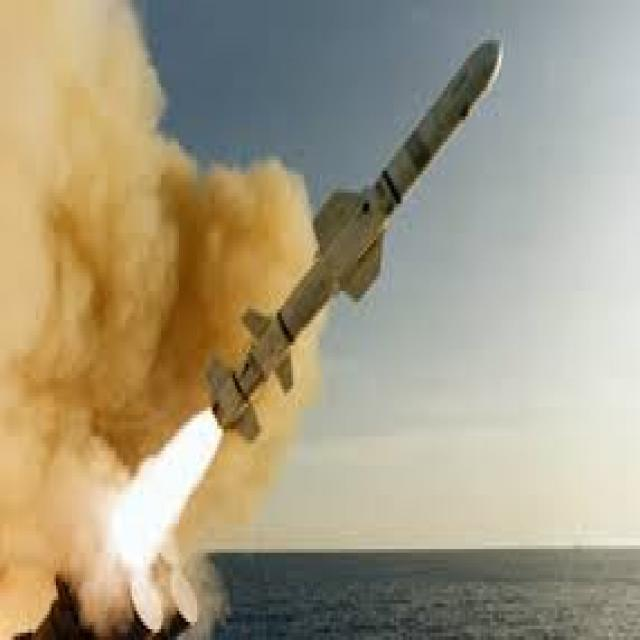missile: (202, 17, 503, 457)
